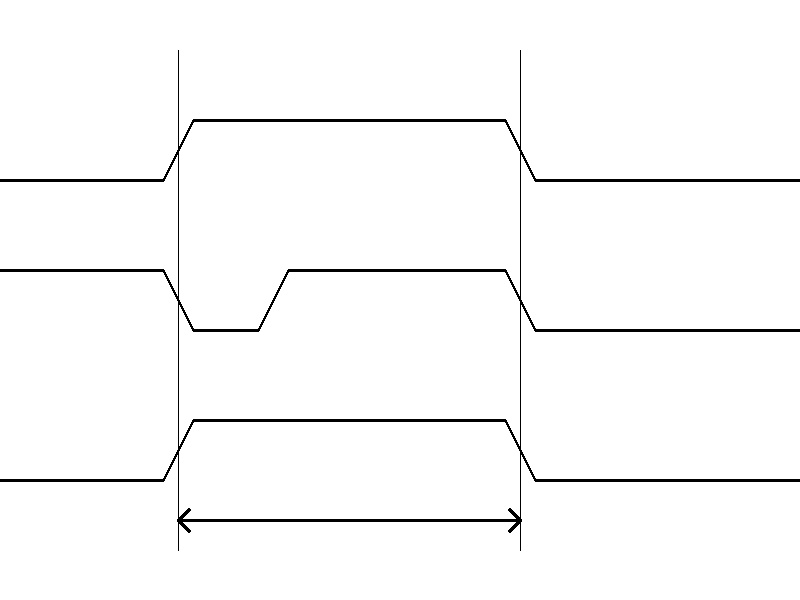double_arrow: (178, 505, 520, 535)
